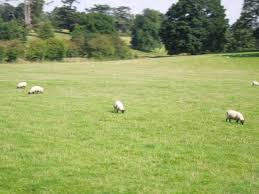sheep: (225, 110, 246, 126), (111, 100, 126, 115), (29, 85, 43, 95), (15, 82, 27, 89)
